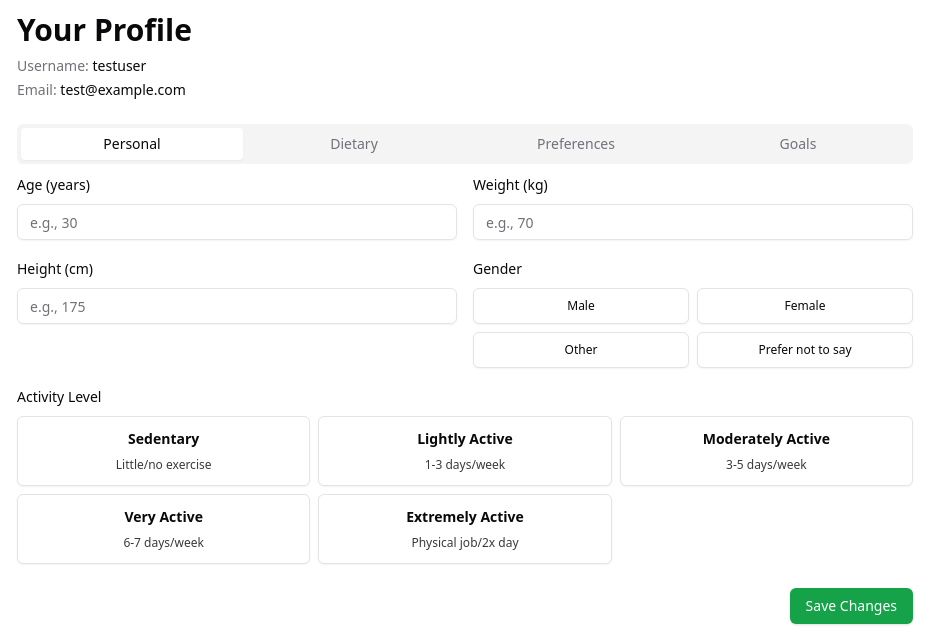
Test: ProfileForm › disables submit button while submitting
The image size is (930, 642).
Expected: the text "testuser" is shown, [92,56,146,75]
# Change age field to trigger form submission
Step 1. Type "35" into the number field labelled "Age (years)" → (237, 222), box [17,204,457,240]
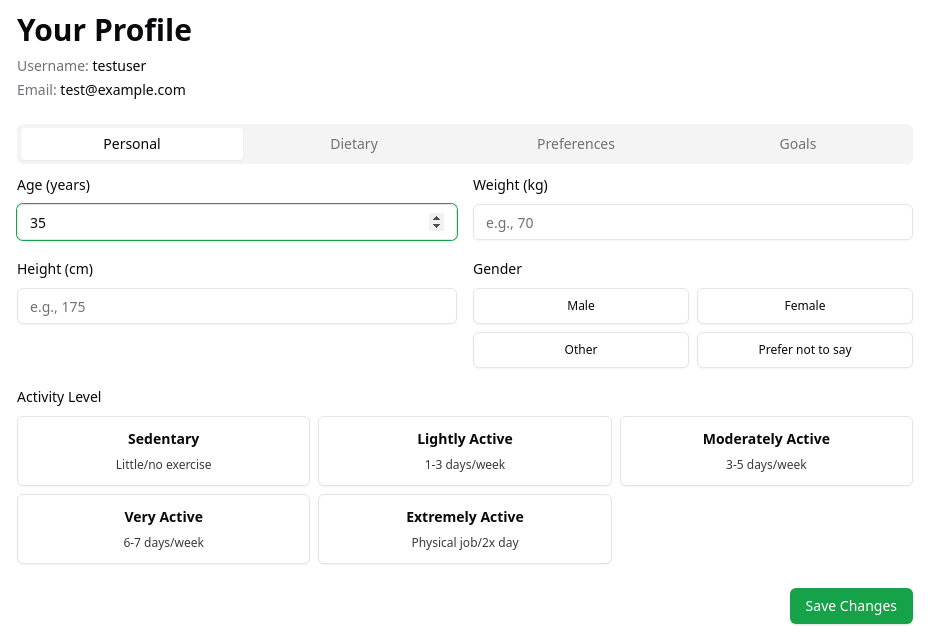
Step 2. Click the button "Save Changes" → click(851, 606), box [790,588,913,624]
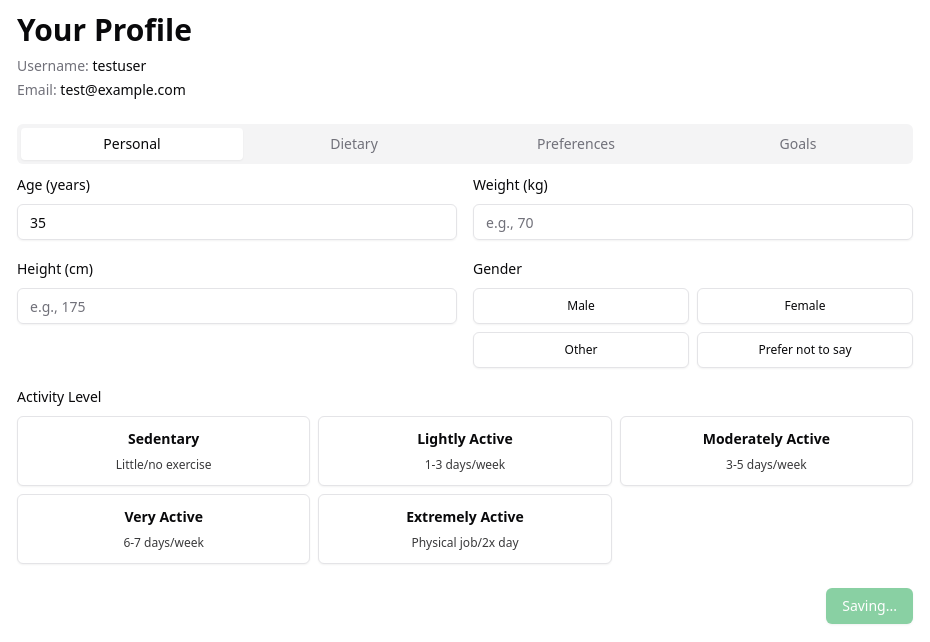
Expected: the button named "save changes" is disabled, [826,588,913,624]
